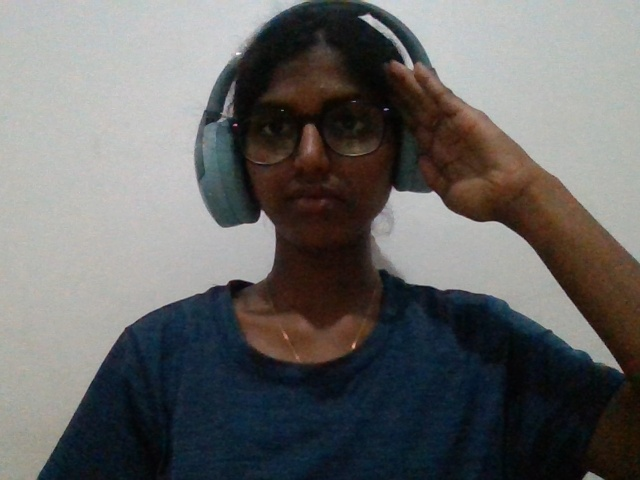Hello: (341, 30, 614, 321)
